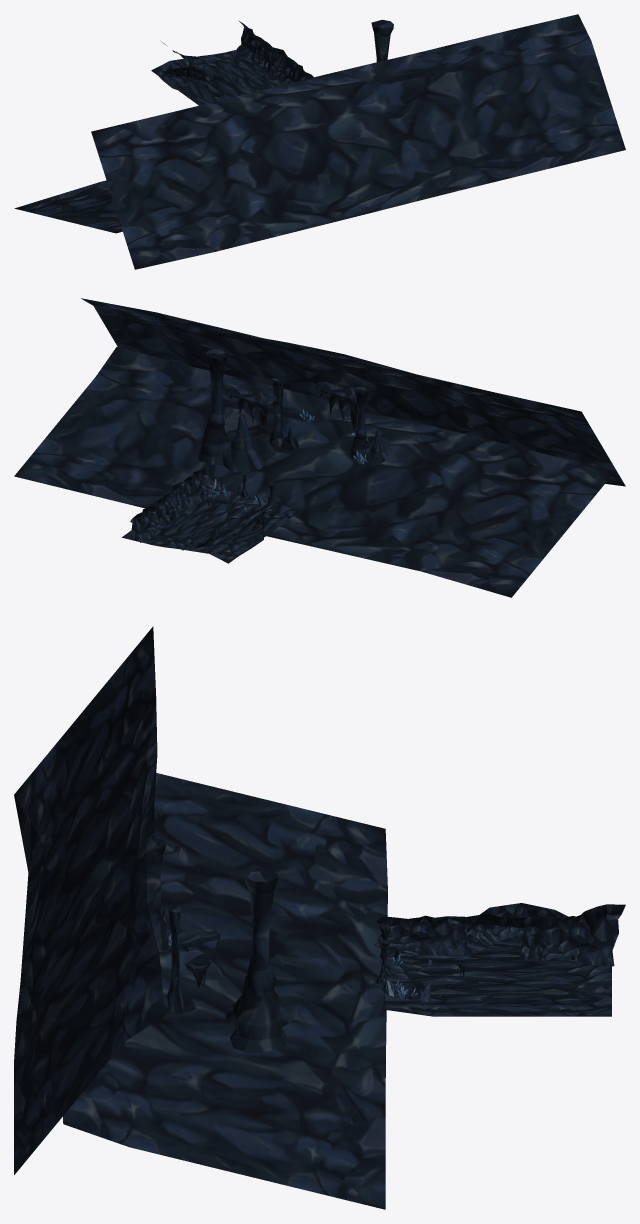
The model's file is env_ilum_crystalcave_pre.glb.
The picture shows the model from 3 angles, top to bottom: view 1: azimuth 30°, elevation 25°; view 2: azimuth 150°, elevation 25°; view 3: azimuth 270°, elevation 25°; orthographic projection. The views are drawn at different scales.
Visible parts, largest first — view 1: cave_ground_mesh (×3), ilum_cave_wall_03_mesh, ilum_cave_wall_02_mesh, hoth_ice_pillar_07_mesh; view 2: cave_ground_mesh (×3), hoth_ice_pillar_07_mesh (×2), ilum_cave_wall_03_mesh, hoth_ice_pillar_05_mesh (×2), hoth_ice_pillar_04_mesh, ilum_cave_wall_02_mesh; view 3: cave_ground_mesh (×3), ilum_cave_wall_02_mesh, hoth_ice_pillar_07_mesh, hoth_ice_pillar_05_mesh, hoth_ice_pillar_04_mesh.
Boxes of the visible parts, x1,y1,x2,y2 form: cave_ground_mesh (×3): (14, 14, 625, 269); ilum_cave_wall_03_mesh: (236, 20, 313, 84); ilum_cave_wall_02_mesh: (159, 41, 233, 99); hoth_ice_pillar_07_mesh: (371, 19, 393, 62); cave_ground_mesh (×3): (14, 298, 625, 597); hoth_ice_pillar_07_mesh (×2): (197, 349, 387, 472); ilum_cave_wall_03_mesh: (130, 462, 221, 542); hoth_ice_pillar_05_mesh (×2): (224, 381, 367, 432); hoth_ice_pillar_04_mesh: (269, 377, 299, 450); ilum_cave_wall_02_mesh: (182, 494, 286, 555); cave_ground_mesh (×3): (14, 626, 611, 1209); ilum_cave_wall_02_mesh: (374, 903, 625, 966); hoth_ice_pillar_07_mesh: (225, 867, 293, 1053); hoth_ice_pillar_05_mesh: (177, 927, 220, 992); hoth_ice_pillar_04_mesh: (167, 904, 184, 1013).
Bounding box in the file's own units: 229 × 58.3 × 154.
Materials: 6 (6 with a texture image).
